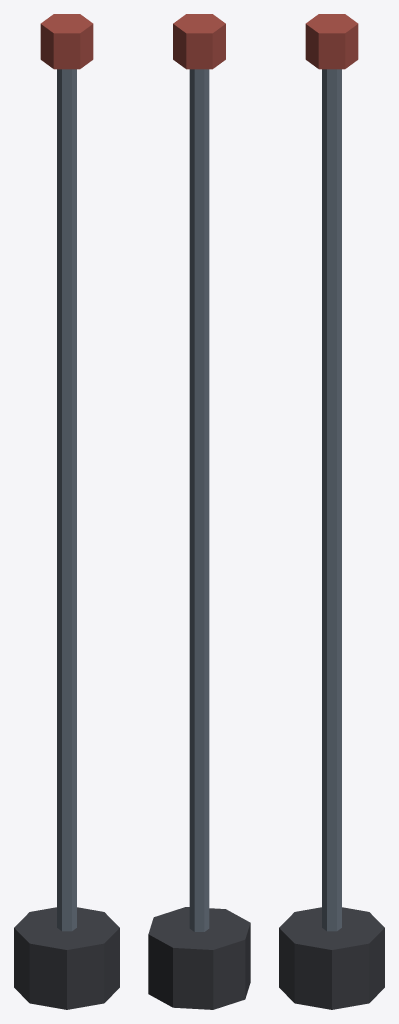
File: Com_Whip.fbx
The picture shows the model from 3 angles, left to right: view 1: azimuth 90°, elevation 25°; view 2: azimuth 150°, elevation 25°; view 3: azimuth 270°, elevation 25°; orthographic projection.
Visible parts, largest first — view 1: Com_Whip; view 2: Com_Whip; view 3: Com_Whip.
Boxes of the visible parts, bbox=[...] form: Com_Whip: bbox=[14, 14, 119, 1009]; Com_Whip: bbox=[148, 14, 250, 1009]; Com_Whip: bbox=[279, 14, 384, 1009].
Bounding box in the file's own units: 0.16 × 1.61 × 0.16.
Materials: 1 (1 with a texture image).
